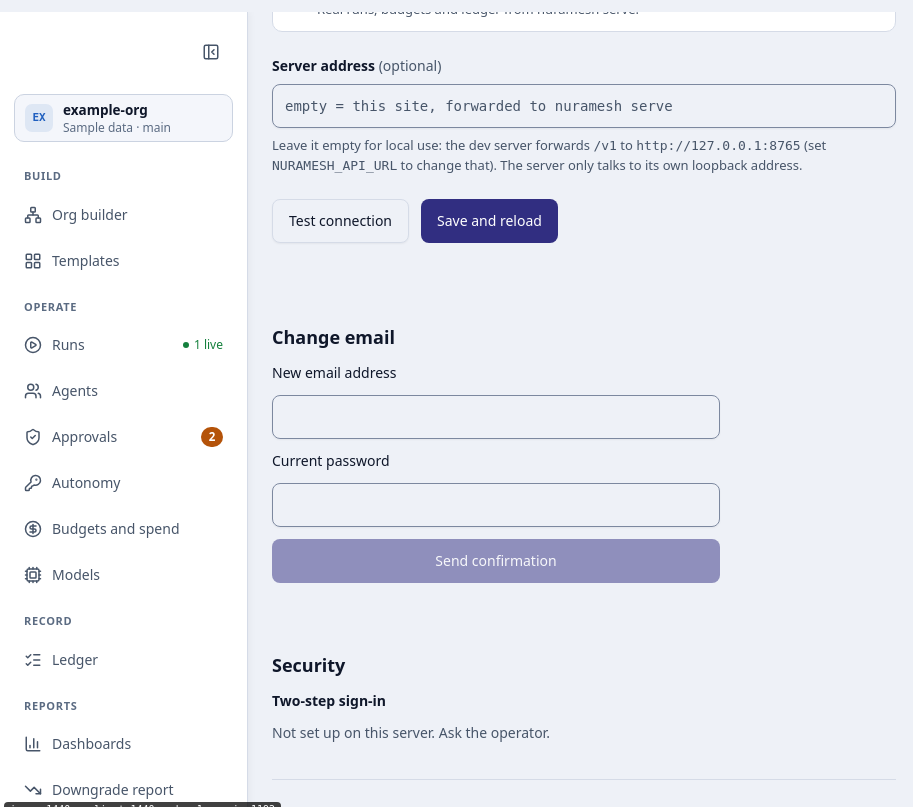
Scenario: A-V1: account settings, change email › a rate limit shows the wait; a mail-off 503 shows the server's text
(page scrolled)
Type "ada.new@example.org" into the field labelled "New email address".
click(496, 417); type("ada.new@example.org")  # box x1=272 y1=395 x2=720 y2=439
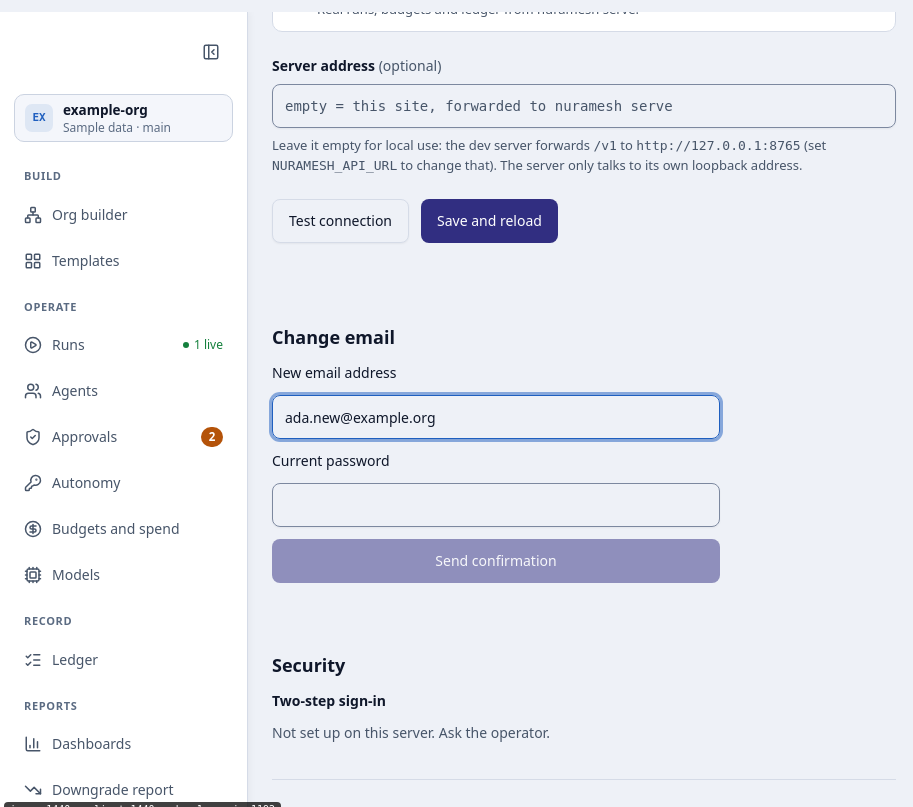
Type "obviously-fake-test-password" into the password field labelled "Current password".
click(496, 505); type("obviously-fake-test-password")  # box x1=272 y1=483 x2=720 y2=527
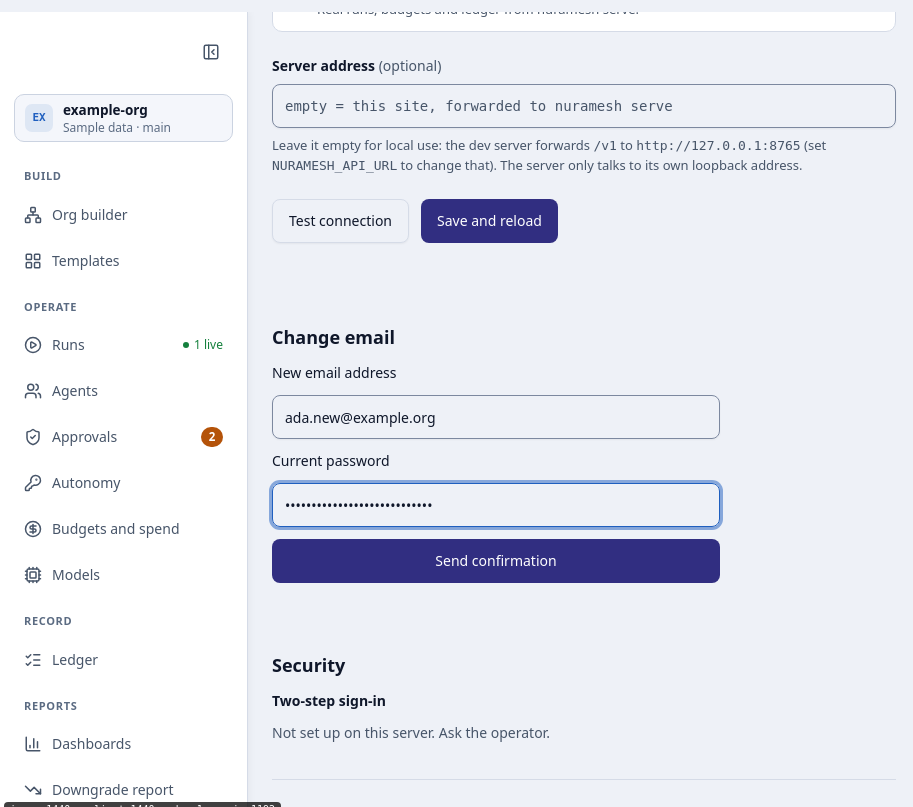
Click the button "Send confirmation".
click(496, 561)  # box x1=272 y1=539 x2=720 y2=583
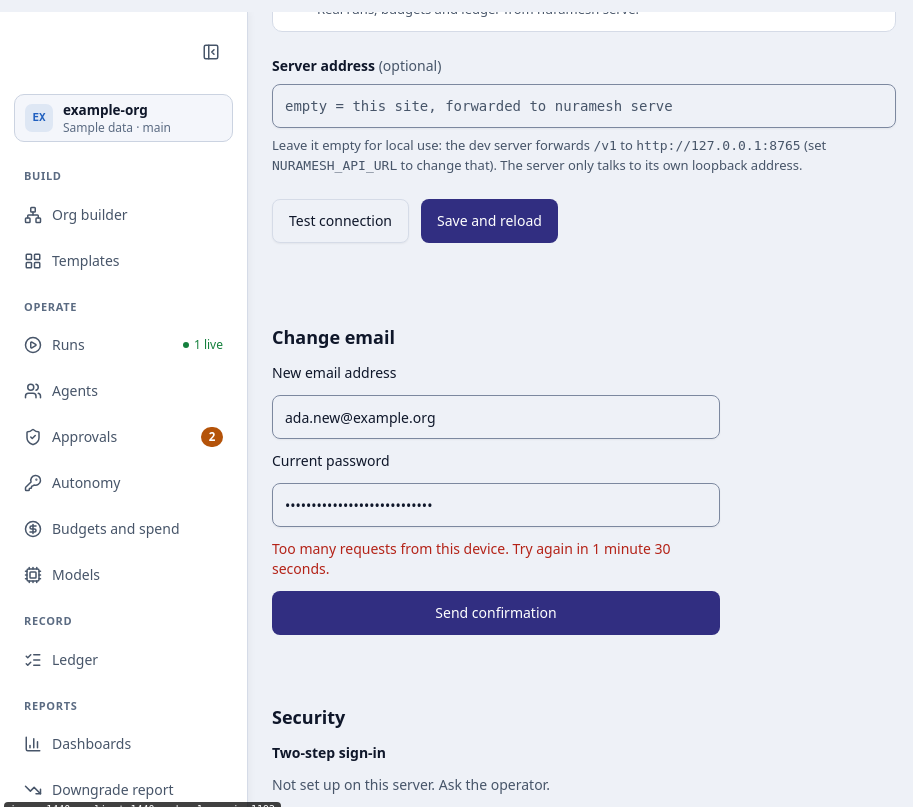
Check: the text with test id "email-change-failure" shows "1 minute 30 seconds", box x1=272 y1=539 x2=671 y2=578
Click the button "Send confirmation".
click(496, 613)  # box x1=272 y1=591 x2=720 y2=635
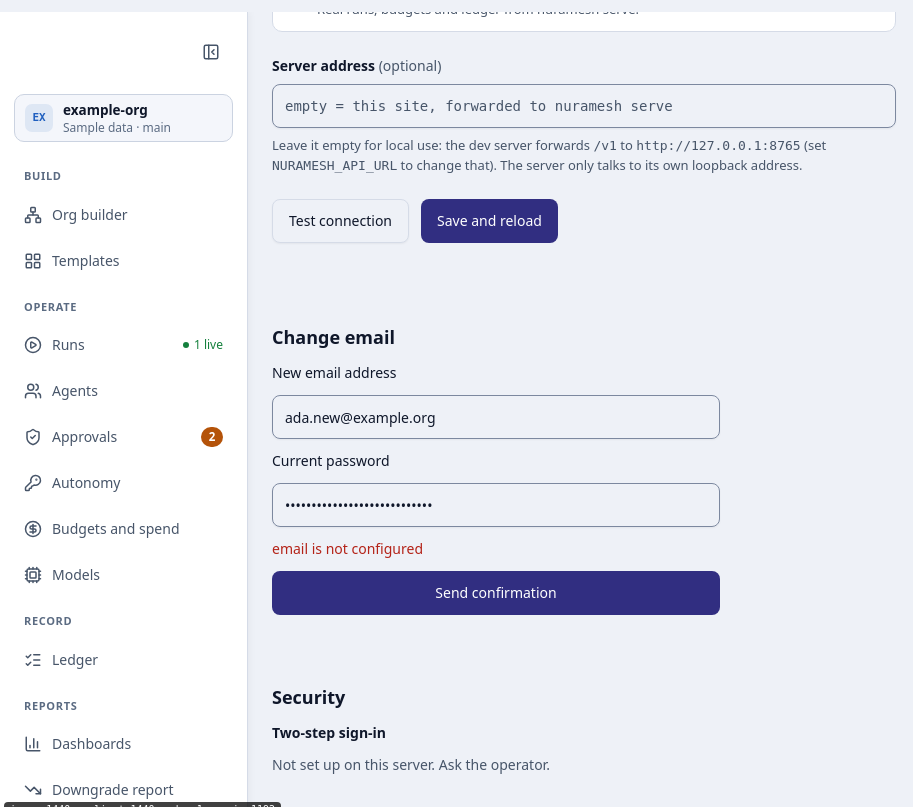
Check: the text with test id "email-change-failure" reads "email is not configured", box x1=272 y1=539 x2=423 y2=558
